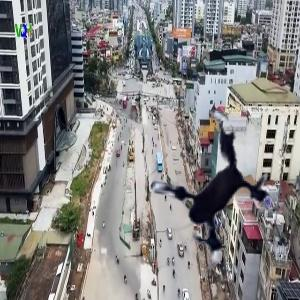drone: (114, 99, 295, 280)
